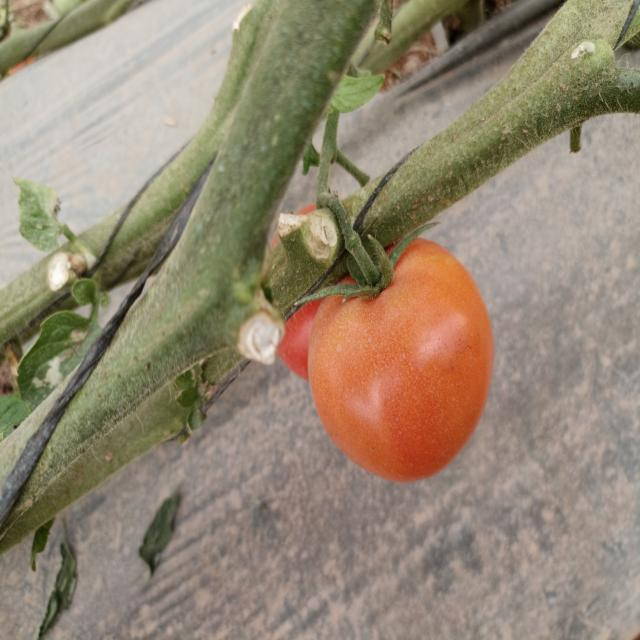Ripe Tomato: (312, 228, 489, 490), (276, 293, 330, 384)
